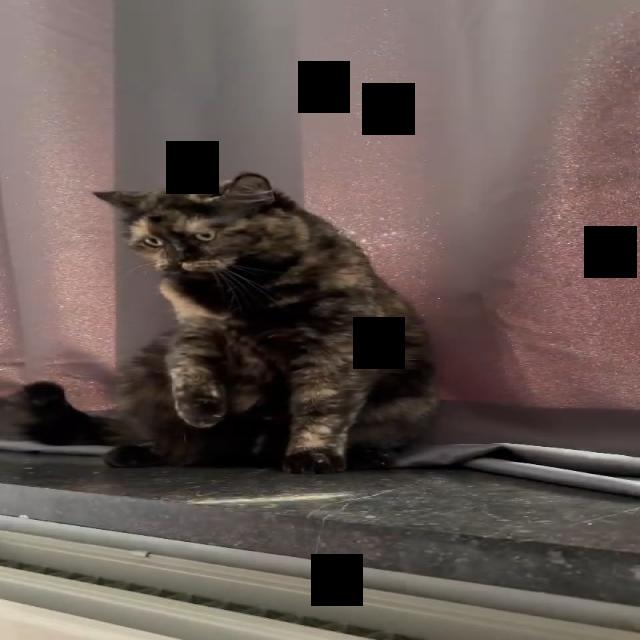authorized: (91, 171, 440, 475), (0, 379, 131, 446)
